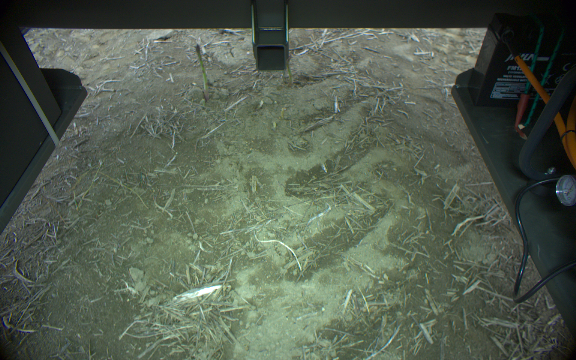aspa: (194, 43, 211, 100), (287, 50, 295, 89)
